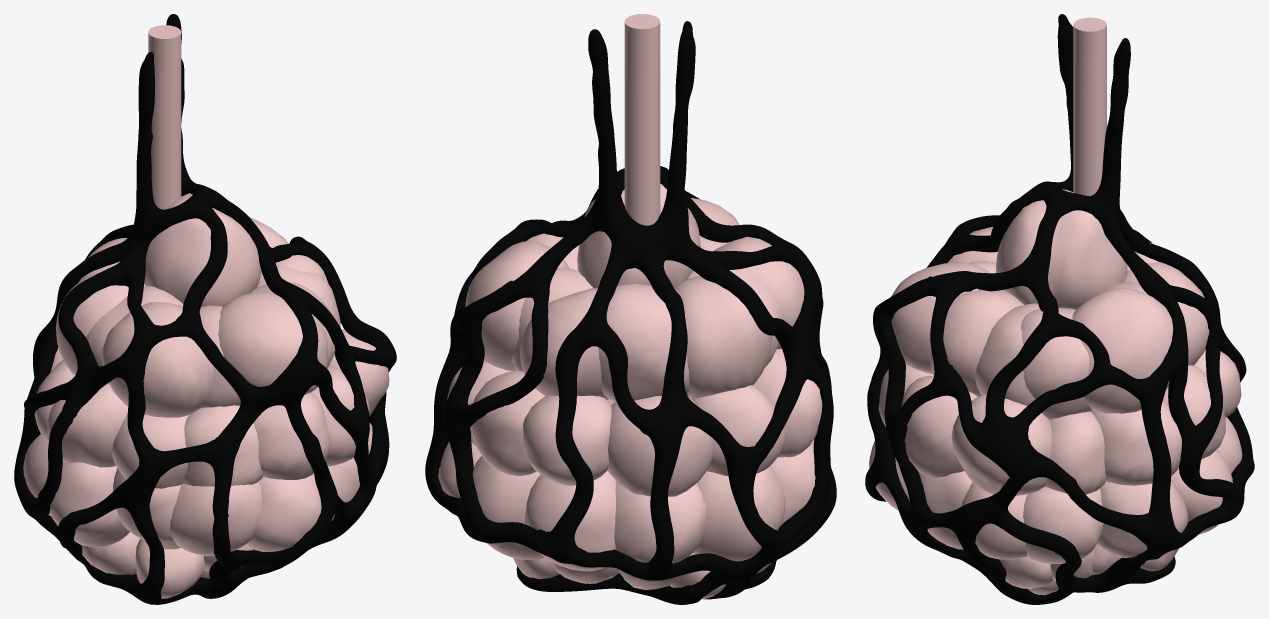
Rendered from ALVEOLO TESTE 2.glb.
3 views of the same model, side by side, from view 1: azimuth 30°, elevation 25°; view 2: azimuth 150°, elevation 25°; view 3: azimuth 270°, elevation 25° (orthographic). The views are drawn at different scales.
Visible parts, largest first — view 1: ALVEOLOS, VEIAS, Cylinder, VEIAS.1; view 2: ALVEOLOS, VEIAS, Cylinder, VEIAS.1; view 3: ALVEOLOS, VEIAS, Cylinder, VEIAS.1.
Boxes of the visible parts, x1=… form: ALVEOLOS: x1=23, y1=193, x2=389, y2=598; VEIAS: x1=14, y1=14, x2=396, y2=604; Cylinder: x1=148, y1=25, x2=181, y2=209; VEIAS.1: x1=136, y1=52, x2=157, y2=214; ALVEOLOS: x1=438, y1=183, x2=822, y2=599; VEIAS: x1=425, y1=29, x2=836, y2=604; Cylinder: x1=624, y1=14, x2=660, y2=225; VEIAS.1: x1=663, y1=21, x2=695, y2=212; ALVEOLOS: x1=869, y1=189, x2=1242, y2=594; VEIAS: x1=865, y1=38, x2=1254, y2=604; Cylinder: x1=1073, y1=17, x2=1106, y2=196; VEIAS.1: x1=1057, y1=14, x2=1073, y2=183.
Bounding box in the file's own units: 2.8 × 4.3 × 2.77.
